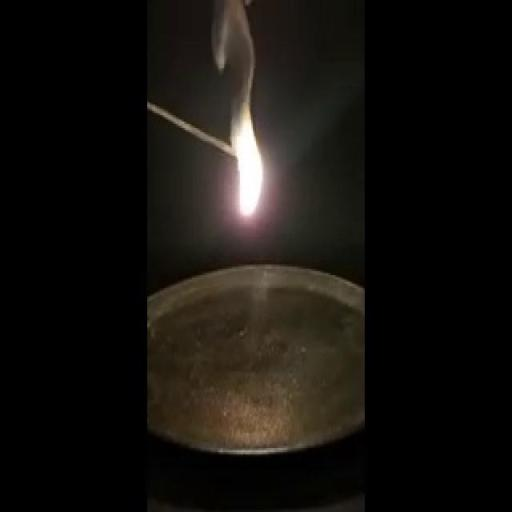smoke: (222, 47, 278, 237)
